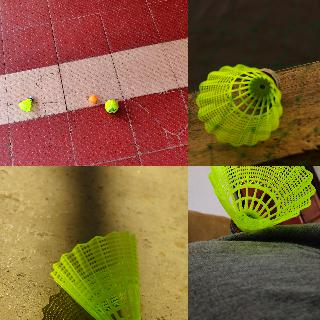shuttlecock: (49, 230, 153, 319), (207, 166, 316, 234), (196, 63, 282, 145), (18, 96, 34, 112)
